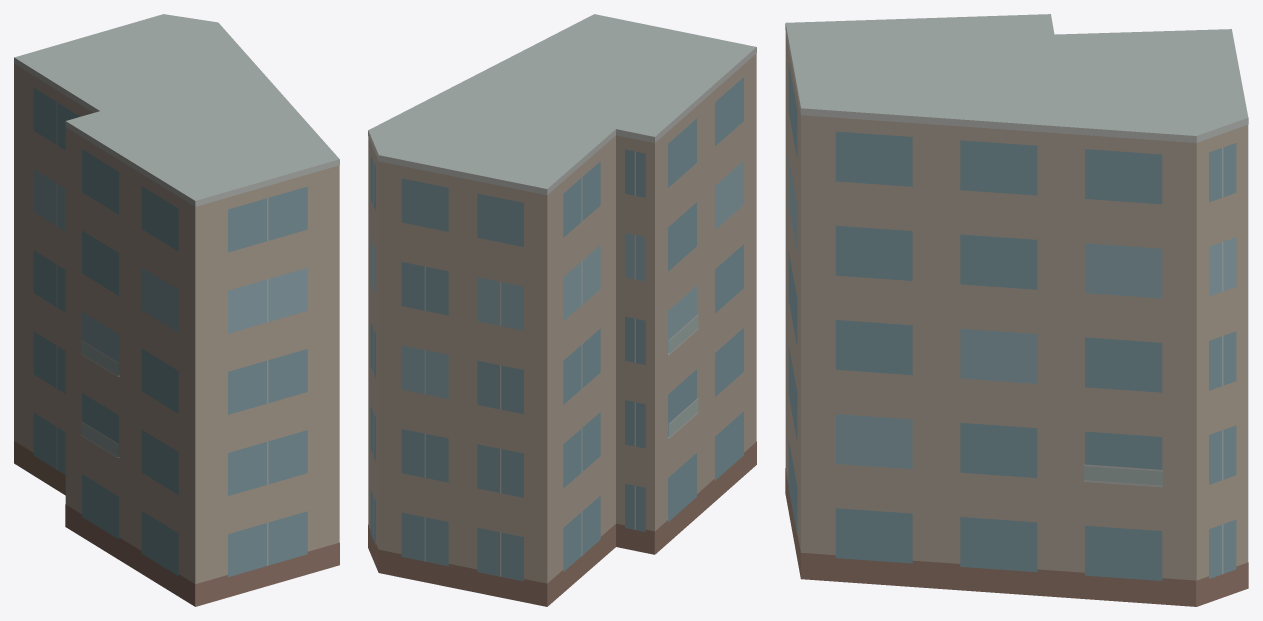
The model's file is survey-upis-32868672.glb.
3 views of the same model, side by side, from view 1: azimuth 30°, elevation 25°; view 2: azimuth 150°, elevation 25°; view 3: azimuth 270°, elevation 25° (orthographic). The views are drawn at different scales.
Visible parts, largest first — view 1: survey-upis-32868672.tmp; view 2: survey-upis-32868672.tmp; view 3: survey-upis-32868672.tmp.
Boxes of the visible parts, left/top/right/bottom form: survey-upis-32868672.tmp: left=14, top=14, right=339, bottom=606; survey-upis-32868672.tmp: left=368, top=14, right=756, bottom=606; survey-upis-32868672.tmp: left=785, top=14, right=1248, bottom=606.
Bounding box in the file's own units: 9.24 × 16.6 × 14.8.
